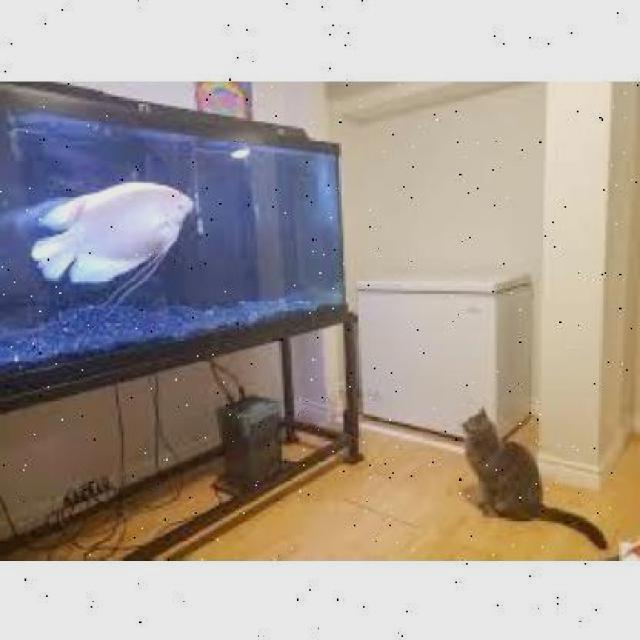gurame: (32, 182, 198, 284)
